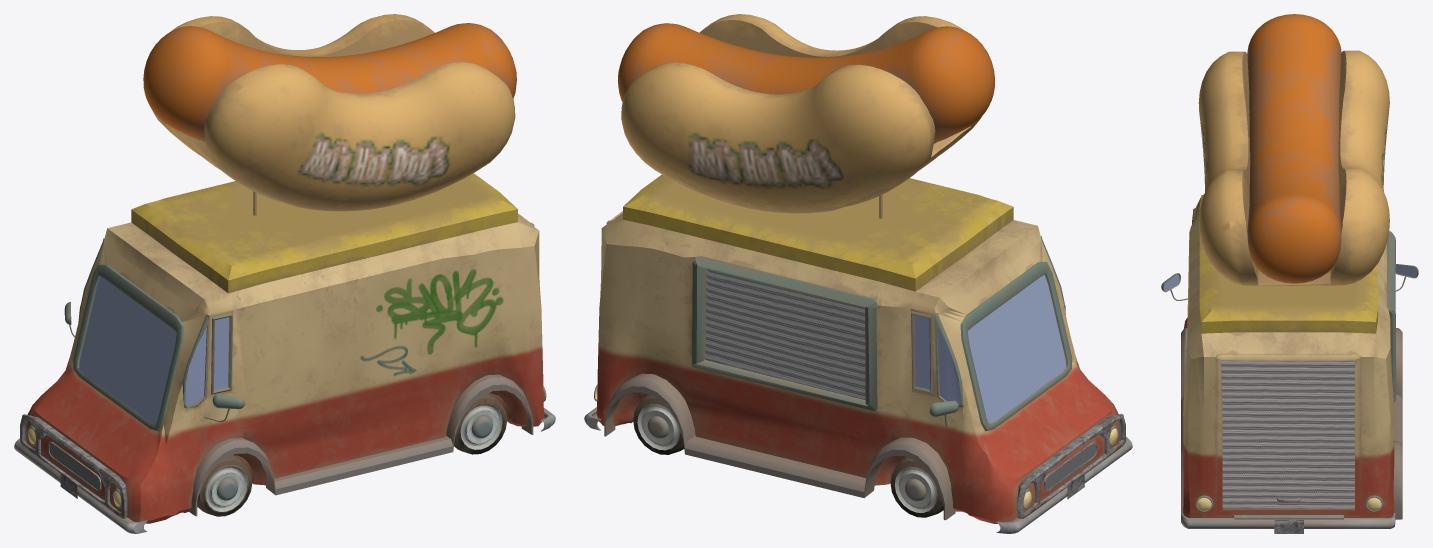
File: Stetz Vehicle.fbx
3 renders of one model, left to right at view 1: azimuth 30°, elevation 25°; view 2: azimuth 150°, elevation 25°; view 3: azimuth 270°, elevation 25°, orthographic. The views are drawn at different scales.
Parts seen in each view (by area): view 1: Stetz Vehicle; view 2: Stetz Vehicle; view 3: Stetz Vehicle.
Boxes of the visible parts, x1,y1,x2,y2 form: Stetz Vehicle: (14,14,555,533); Stetz Vehicle: (584,14,1132,533); Stetz Vehicle: (1161,14,1418,533).
Size of the model in its own units: 1500 by 1438 by 842.
Materials: 1 (1 with a texture image).
